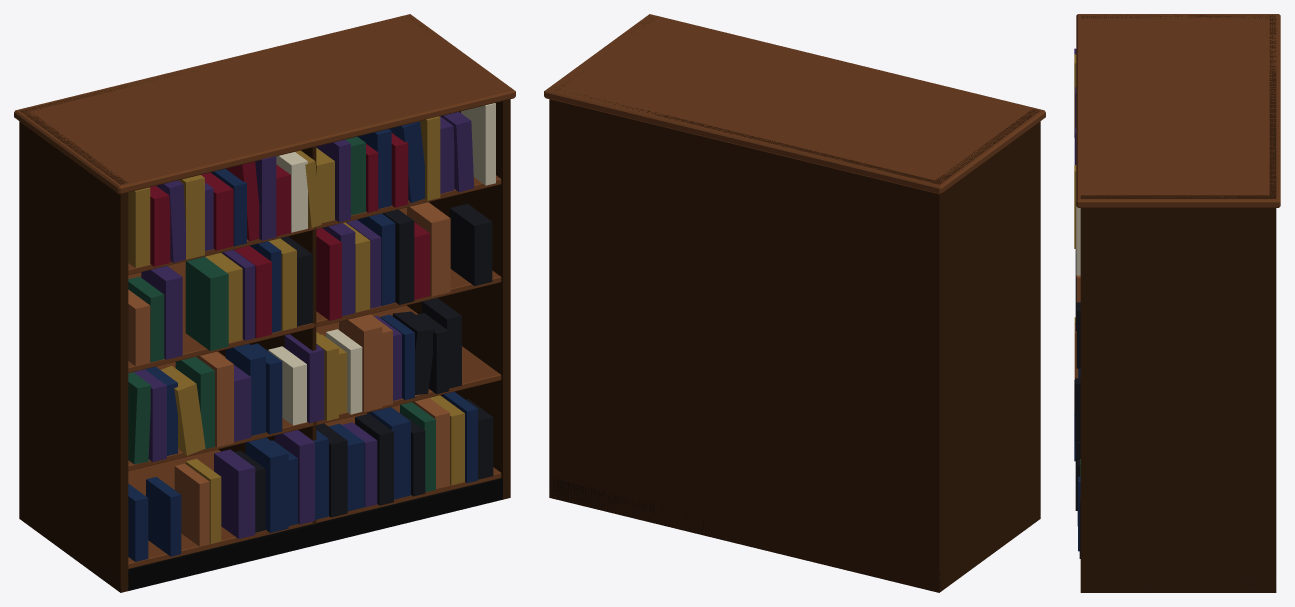
The model's file is bookshelf.glb.
3 renders of one model, left to right at view 1: azimuth 30°, elevation 25°; view 2: azimuth 150°, elevation 25°; view 3: azimuth 270°, elevation 25°, orthographic. The views are drawn at different scales.
Parts seen in each view (by area): view 1: bookshelf; view 2: bookshelf; view 3: bookshelf.
Boxes of the visible parts, bbox=[...] form: bookshelf: bbox=[14, 14, 515, 592]; bookshelf: bbox=[544, 14, 1045, 592]; bookshelf: bbox=[1074, 14, 1280, 592].
Bounding box in the file's own units: 2.04 × 2 × 0.9492.
